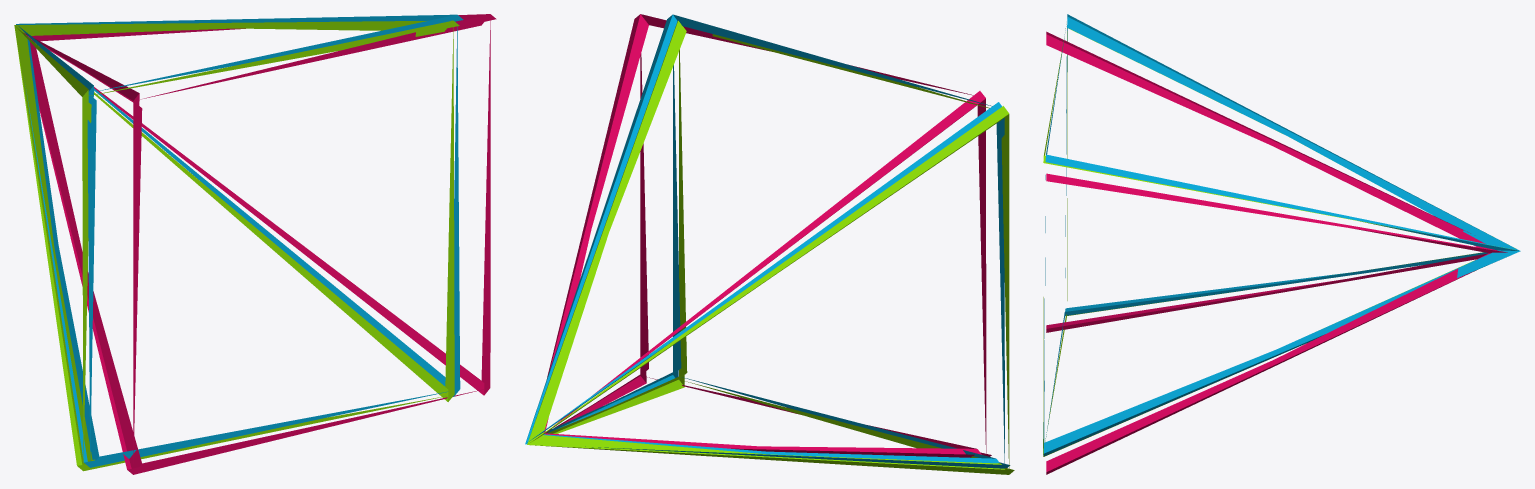
File: glbscene_50_All_maskbFalse_maskwFalse_camTrue_skyFalse_predDepthmap_and_Camera_Branch.glb
3 renders of one model, left to right at view 1: azimuth 30°, elevation 25°; view 2: azimuth 150°, elevation 25°; view 3: azimuth 270°, elevation 25°, orthographic. The views are drawn at different scales.
Parts seen in each view (by area): view 1: world; view 2: world; view 3: world.
Part boxes in pixels (x1=…): world: x1=14, y1=14, x2=496, y2=474; world: x1=525, y1=14, x2=1014, y2=474; world: x1=1043, y1=14, x2=1520, y2=474.
Size of the model in its own units: 0.0588 by 0.0543 by 0.0749.
